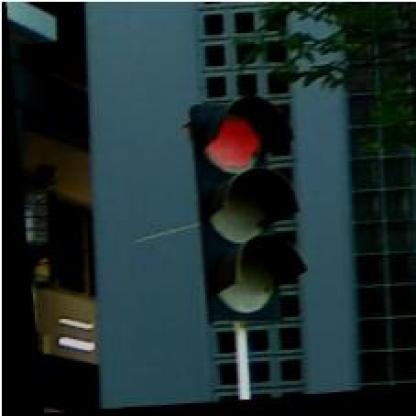red: (178, 98, 302, 327)
